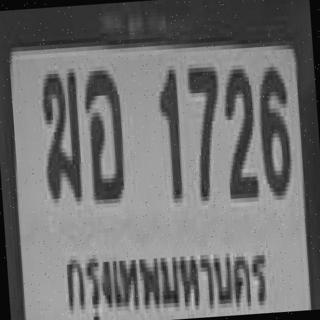A06: (38, 66, 81, 197)
A43: (81, 65, 125, 200)
N01: (155, 65, 182, 199)
N02: (220, 64, 256, 195)
N06: (254, 60, 291, 194)
N07: (185, 62, 224, 197)
P04: (58, 228, 276, 320)
